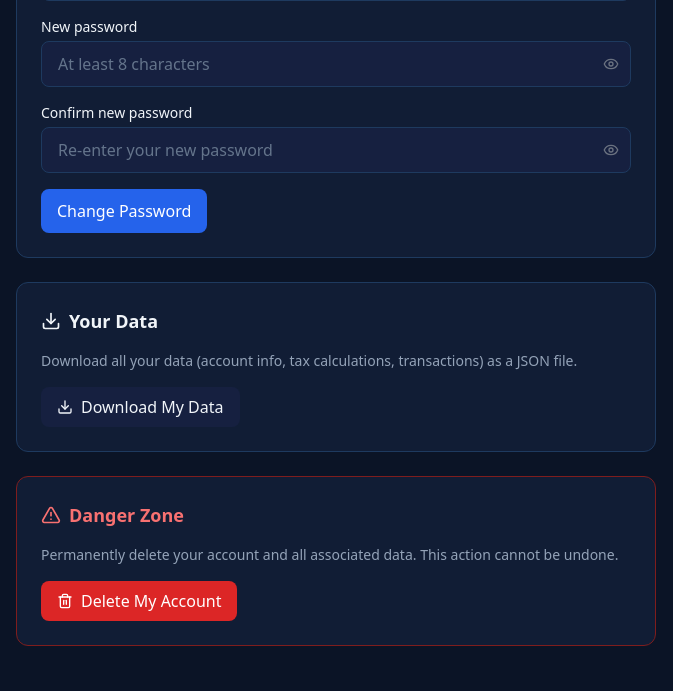
Test: SettingsPage - GDPR export › renders an error alert when exportData rejects
(page scrolled)
Click the button "Download My Data": (140, 407) x1=41 y1=387 x2=240 y2=427
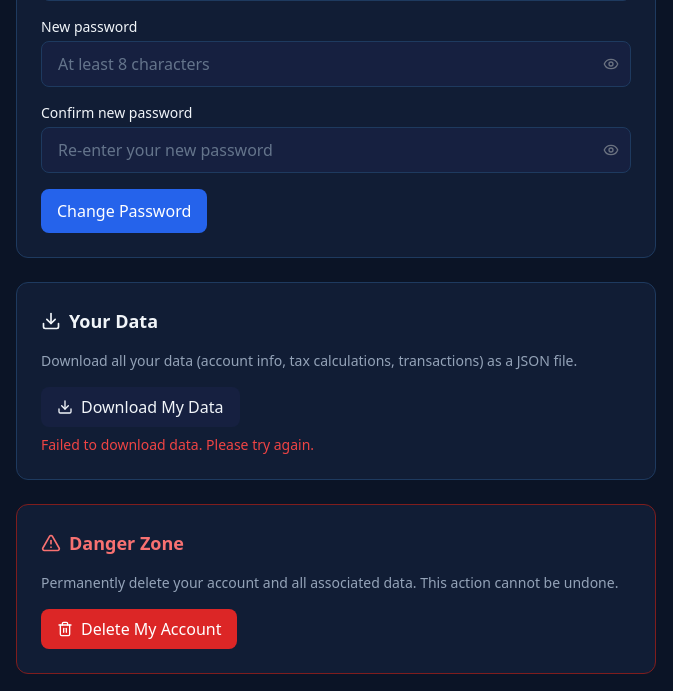
Now the message reads "Failed to download data. Please try again.", box x1=41 y1=435 x2=314 y2=454
